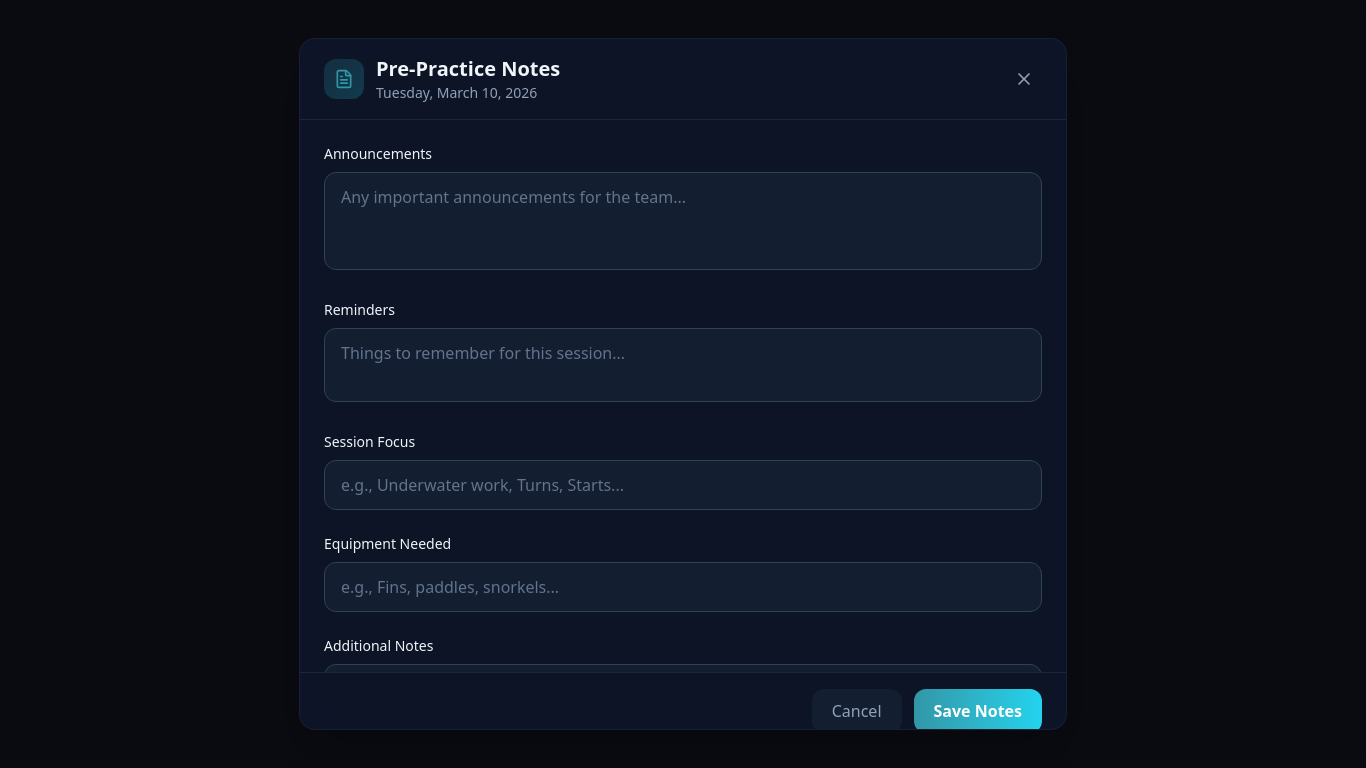
Scenario: PracticeNotesModal › shows error message when save fails
Click the button "Save Notes" at (978, 711), box x1=914 y1=689 x2=1042 y2=733
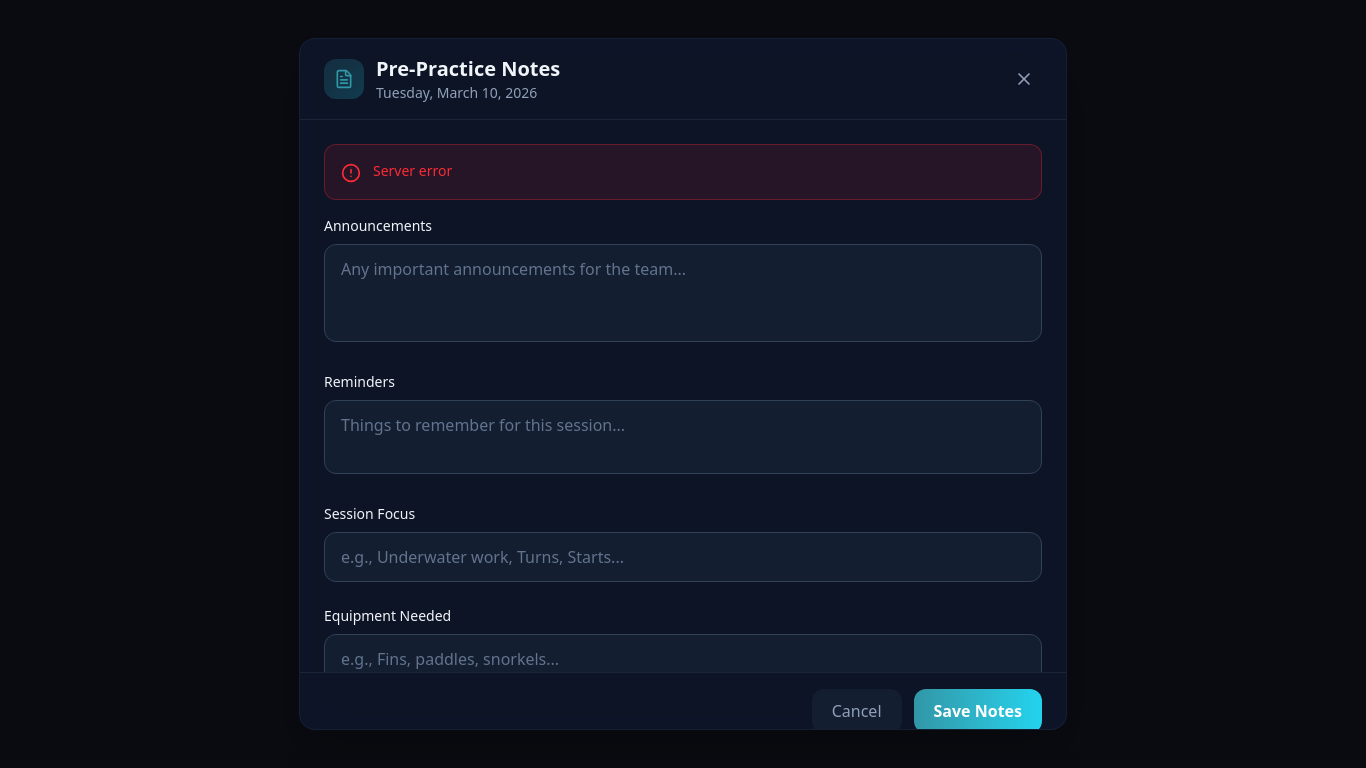
Expected: the text "Server error" is shown, x1=373 y1=161 x2=452 y2=180
